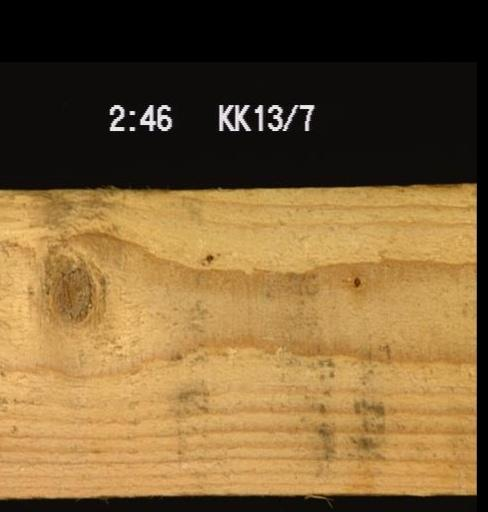dry_knot: (347, 269, 360, 290)
small_knot: (200, 245, 216, 265)
sound_knot: (33, 254, 105, 331)
